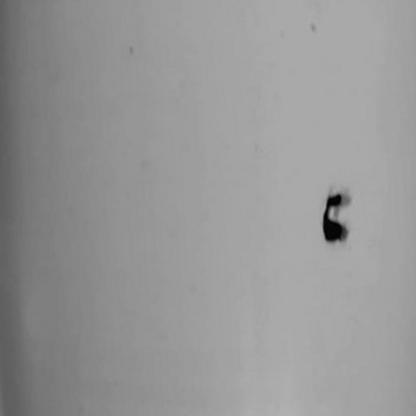kongdong: (312, 176, 367, 250)
